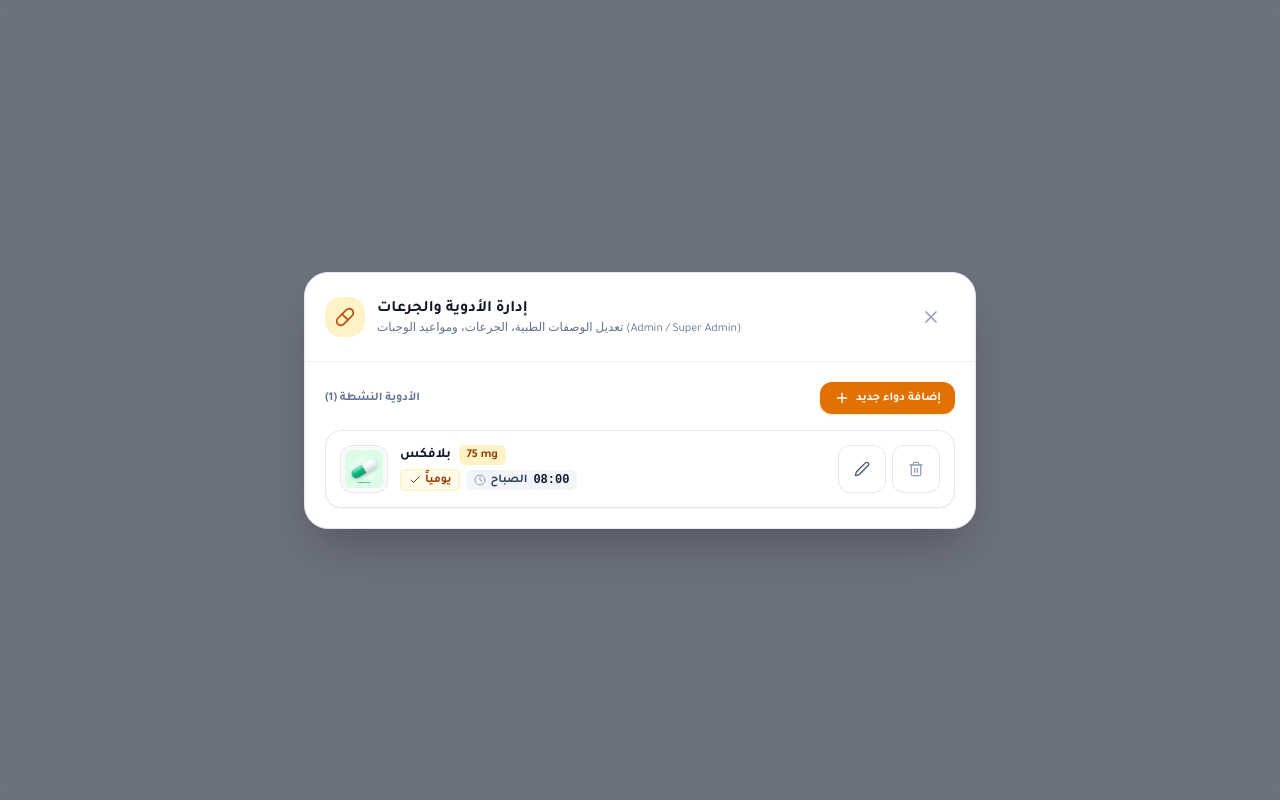
it: duplicate active ingredient › ar: the warning is in Arabic and names the medicine in Arabic
Click the button named "تعديل الدواء والجرعة" at coordinates (862, 468), box [838,444,886,492]
(page scrolled)
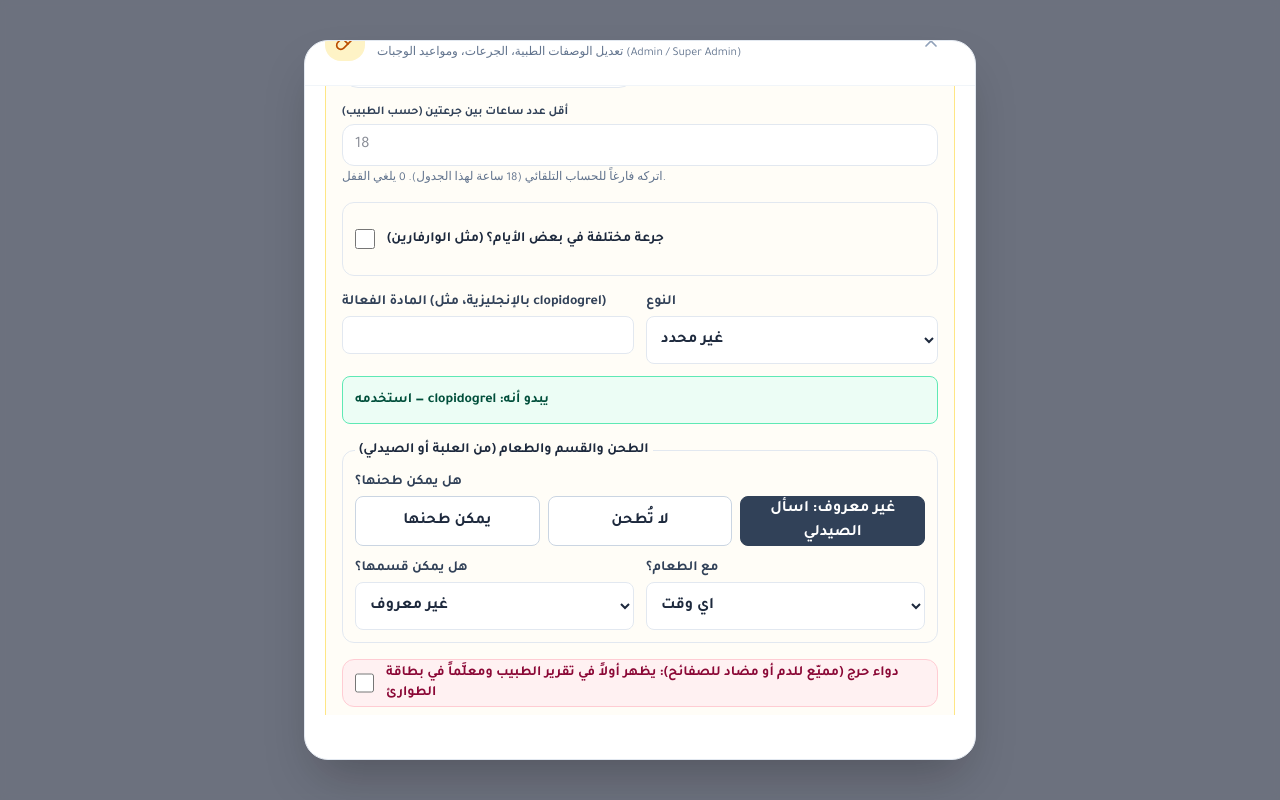
Click the button with test id "use-suggested-ingredient" at coordinates (522, 400), box [342,376,938,424]
(page scrolled)
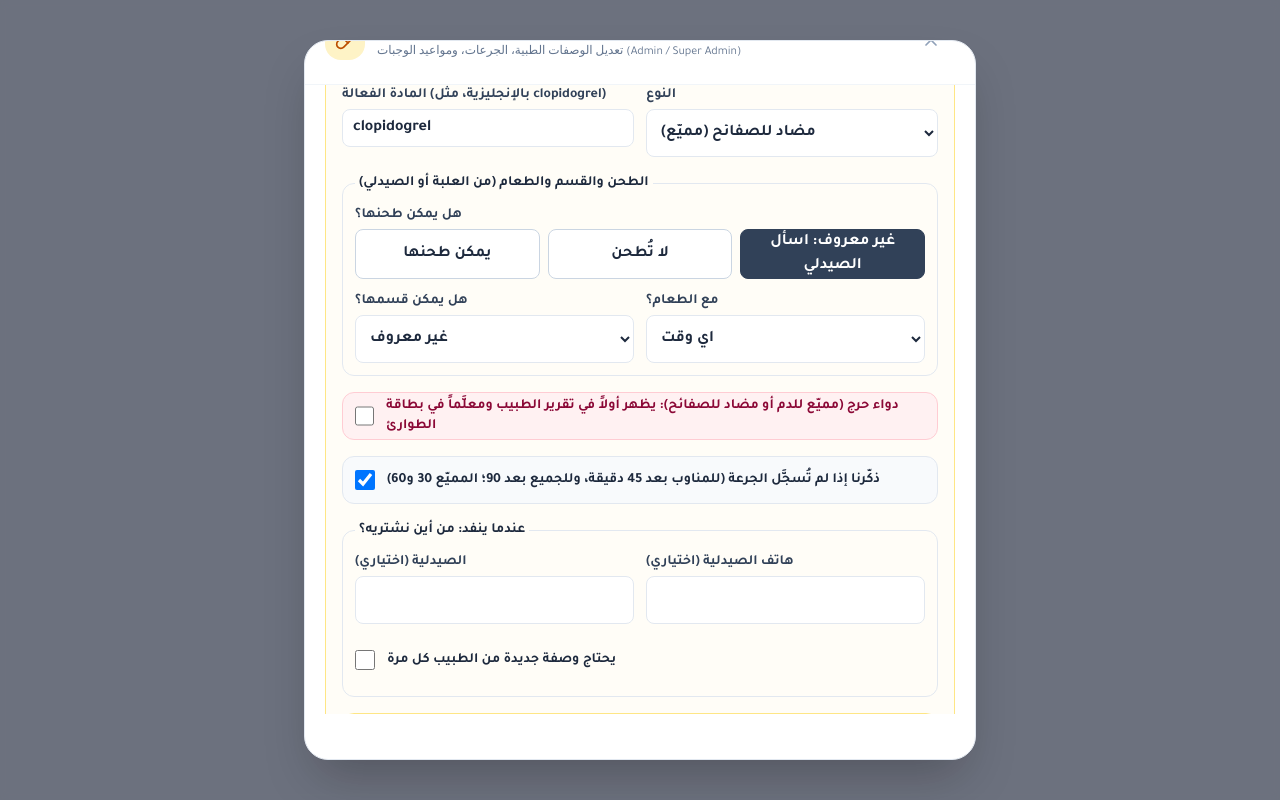
Submit the form with test id "med-ingredient"
(page scrolled)
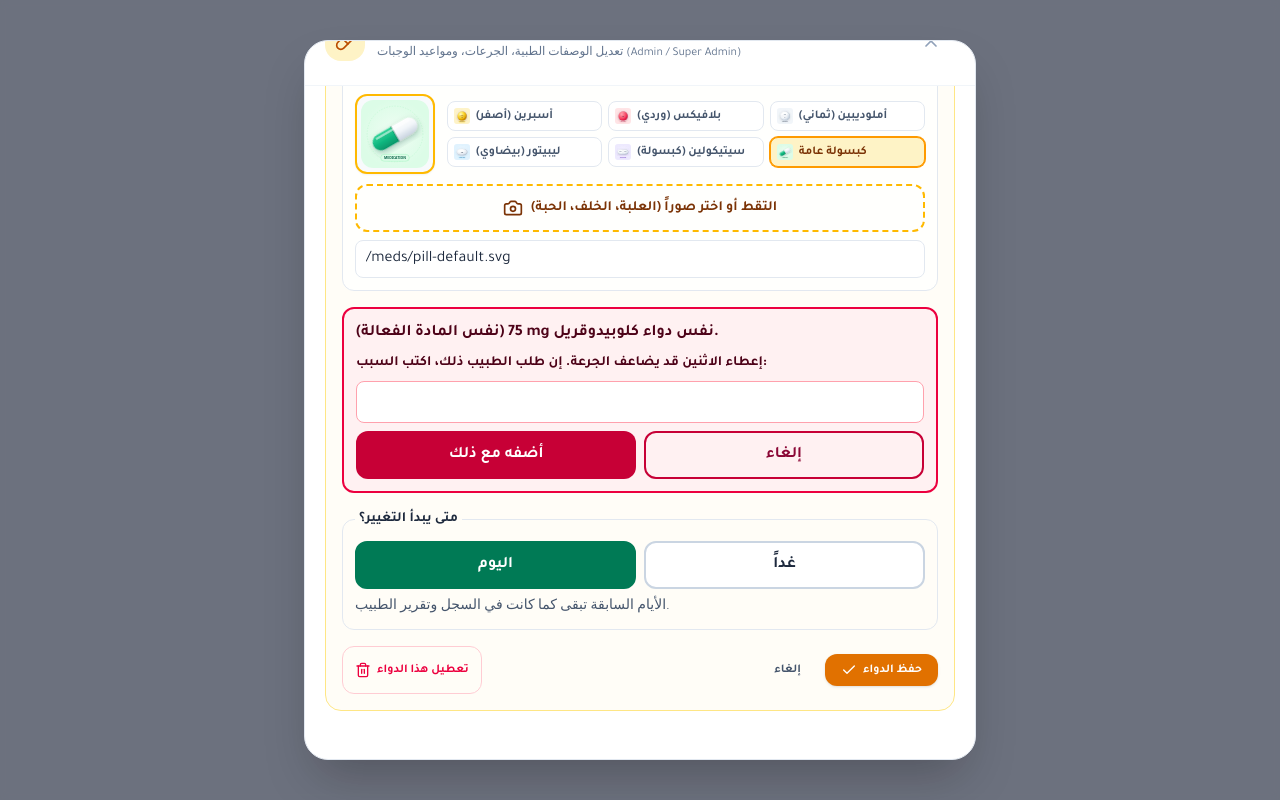
Expected: the message with test id "duplicate-ingredient" shows "نفس دواء كلوبيدوقريل", [342,307,938,493]
Expected: the message with test id "duplicate-ingredient" shows "قد يضاعف الجرعة", [356,356,767,370]
